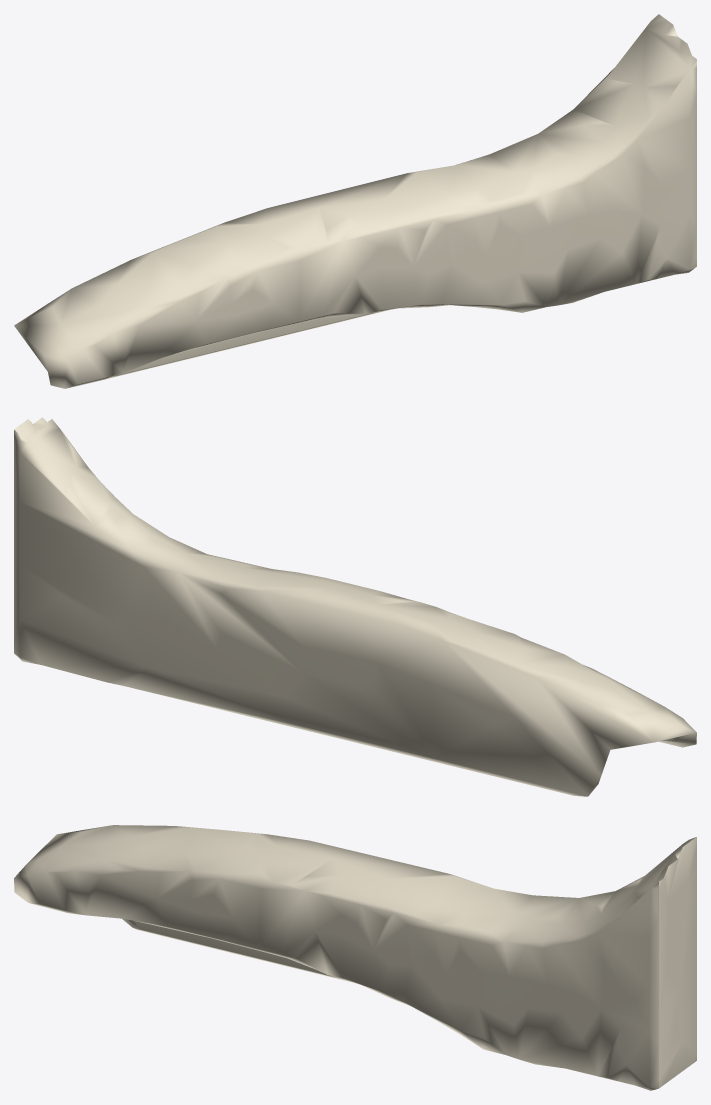
The model's file is nasal_l.glb.
3 views of the same model, one above another, from view 1: azimuth 30°, elevation 25°; view 2: azimuth 150°, elevation 25°; view 3: azimuth 330°, elevation 25° (orthographic).
Visible parts, largest first — view 1: geometry_0; view 2: geometry_0; view 3: geometry_0.
Boxes of the visible parts, x1,y1,x2,y2 form: geometry_0: (14, 14, 696, 388); geometry_0: (14, 417, 696, 796); geometry_0: (14, 825, 696, 1090).
Size of the model in its own units: 0.3139 by 0.1072 by 0.035.
